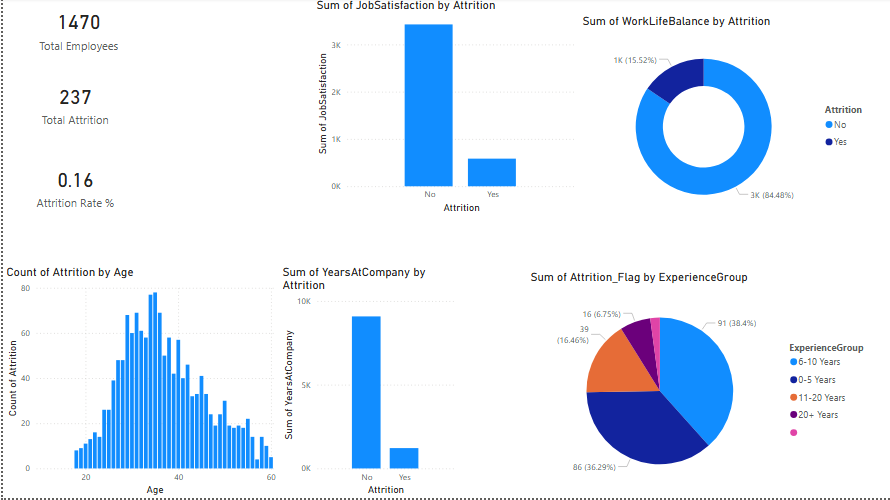

This screenshot's page, from the dashboard's own definition file:
{"tool":"powerbi","page":{"name":"Page 1","canvas":[1280,720],"ordinal":0},"visuals":[{"type":"card","fields":{"Values":["HR_Attrition_Compressed.Total Employees"]},"box":[10.1,0,198.2,87.3],"z":0},{"type":"card","fields":{"Values":["HR_Attrition_Compressed.Total Attrition"]},"box":[0,87.3,208.3,126],"z":1},{"type":"card","fields":{"Values":["HR_Attrition_Compressed.Attrition Rate %"]},"box":[0,213.3,208.3,115.9],"z":2},{"type":"clusteredColumnChart","fields":{"Category":["HR_Attrition_Compressed.Age"],"Y":["CountNonNull(HR_Attrition_Compressed.Attrition)"]},"box":[0,384.7,398.1,336],"z":3},{"type":"pieChart","fields":{"Category":["HR_Attrition_Compressed.ExperienceGroup"],"Y":["Sum(HR_Attrition_Compressed.Attrition_Flag)"]},"box":[754.2,391.4,505.6,329.2],"z":4},{"type":"clusteredColumnChart","fields":{"Y":["Sum(HR_Attrition_Compressed.YearsAtCompany)"],"Category":["HR_Attrition_Compressed.Attrition"]},"box":[398.1,384.7,257,336],"z":5},{"type":"donutChart","fields":{"Category":["HR_Attrition_Compressed.Attrition"],"Y":["Sum(HR_Attrition_Compressed.WorkLifeBalance)"]},"box":[829.8,23.5,430,305.7],"z":6},{"type":"clusteredColumnChart","fields":{"Category":["HR_Attrition_Compressed.Attrition"],"Y":["Sum(HR_Attrition_Compressed.JobSatisfaction)"]},"box":[446.8,0,383,314.1],"z":7}]}

Visuals, with their boxes in screenshot pixels (x1, y1, x2, y2), scaled from the page's 1280x720 canvas onto the 890x500 screenshot:
card - HR_Attrition_Compressed.Total Employees: 7/0/145/61
card - HR_Attrition_Compressed.Total Attrition: 0/61/145/148
card - HR_Attrition_Compressed.Attrition Rate %: 0/148/145/229
clusteredColumnChart - HR_Attrition_Compressed.Age x CountNonNull(HR_Attrition_Compressed.Attrition): 0/267/277/499
pieChart - HR_Attrition_Compressed.ExperienceGroup x Sum(HR_Attrition_Compressed.Attrition_Flag): 524/272/876/499
clusteredColumnChart - Sum(HR_Attrition_Compressed.YearsAtCompany) x HR_Attrition_Compressed.Attrition: 277/267/455/499
donutChart - HR_Attrition_Compressed.Attrition x Sum(HR_Attrition_Compressed.WorkLifeBalance): 577/16/876/229
clusteredColumnChart - HR_Attrition_Compressed.Attrition x Sum(HR_Attrition_Compressed.JobSatisfaction): 311/0/577/218
